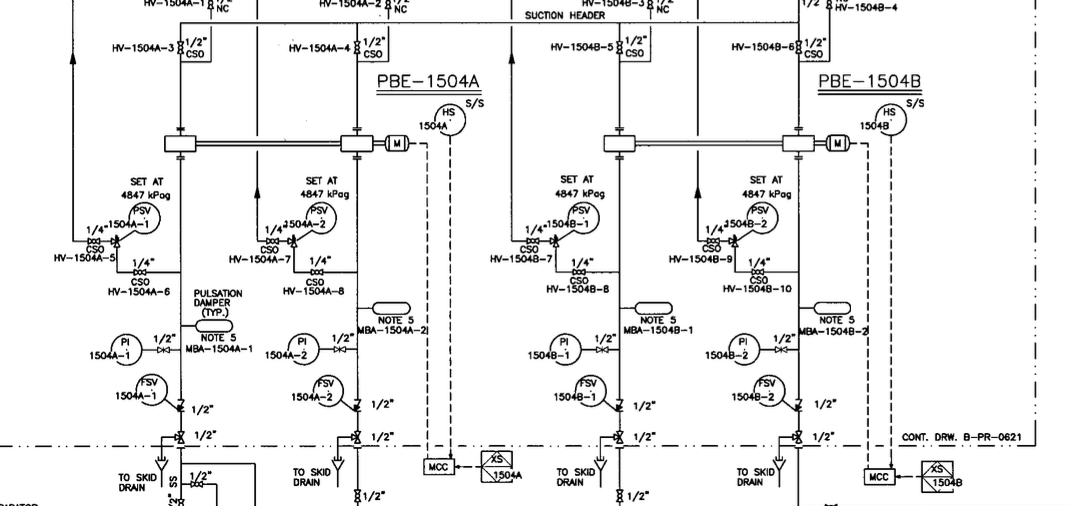Instrument-offset: (550, 372, 612, 414), (728, 371, 791, 412), (289, 370, 348, 411), (114, 371, 173, 412), (525, 328, 584, 368), (701, 332, 766, 368), (265, 329, 323, 369), (87, 329, 144, 367), (859, 100, 911, 141), (110, 198, 163, 237), (724, 202, 784, 236), (546, 200, 604, 235), (417, 101, 470, 139)
Instrument-square-offset: (473, 449, 533, 486), (916, 457, 966, 493)
